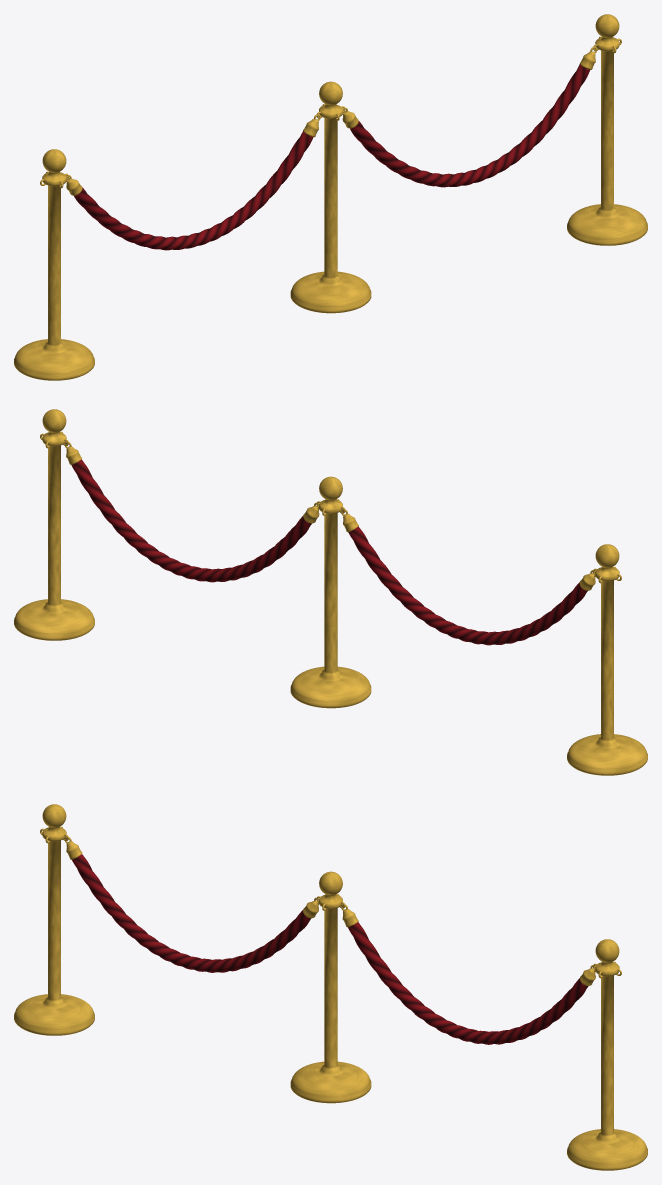
The model's file is RedCarpetStanchion.fbx.
The picture shows the model from 3 angles, top to bottom: view 1: azimuth 30°, elevation 25°; view 2: azimuth 150°, elevation 25°; view 3: azimuth 330°, elevation 25°; orthographic projection.
Parts seen in each view (by area): view 1: RedCarpetStanchion; view 2: RedCarpetStanchion; view 3: RedCarpetStanchion.
Boxes of the visible parts, bbox=[...] form: RedCarpetStanchion: bbox=[14, 14, 647, 380]; RedCarpetStanchion: bbox=[14, 409, 647, 775]; RedCarpetStanchion: bbox=[14, 804, 647, 1170].
Bounding box in the file's own units: 2.84 × 0.32 × 0.931.
Materials: 2 (2 with a texture image).
